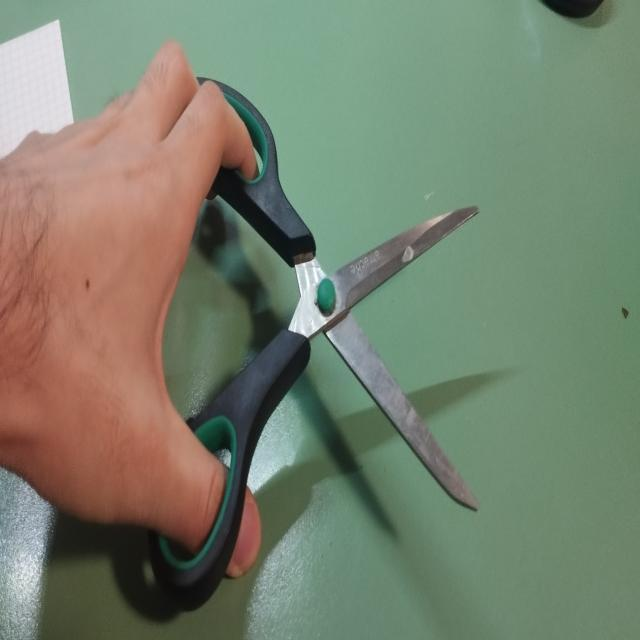tesoura: (142, 68, 483, 604)
